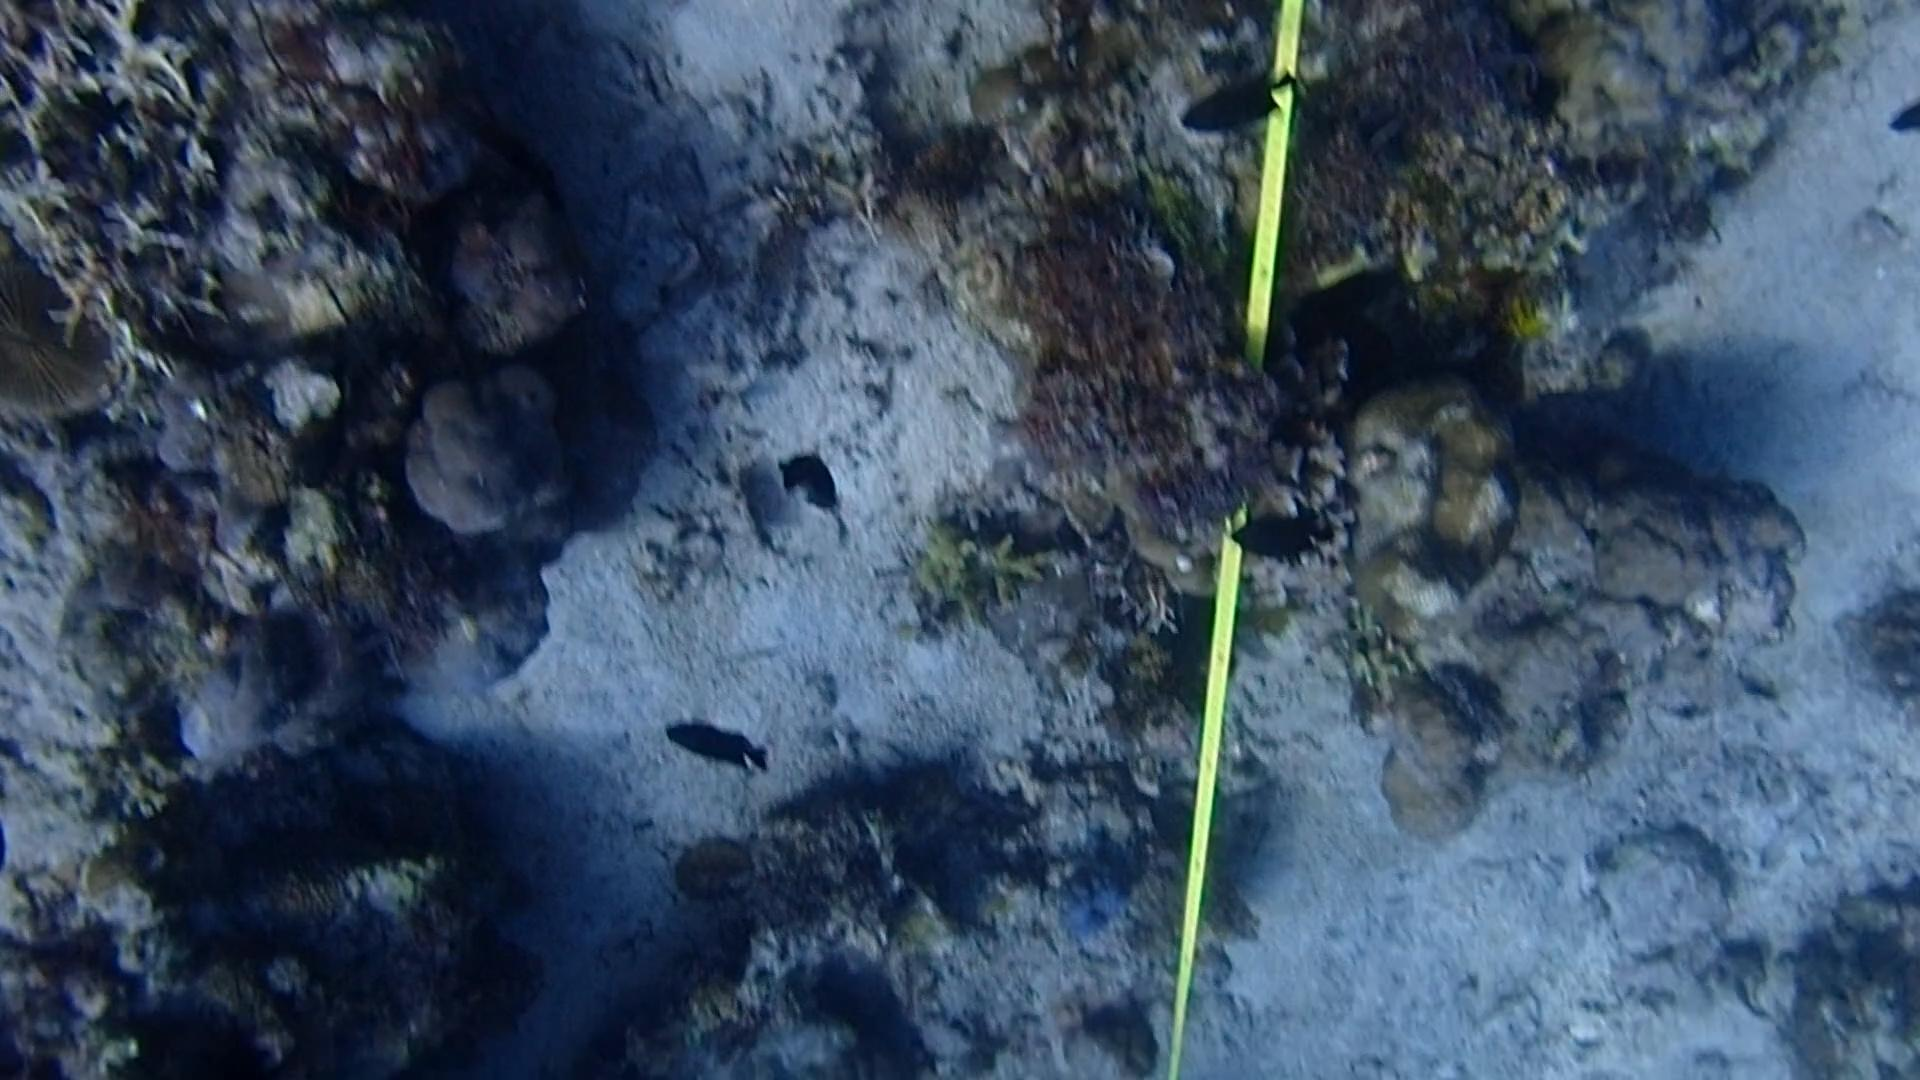Dark Fish: (1269, 256, 1399, 360), (1166, 49, 1294, 140), (1218, 484, 1337, 572), (290, 388, 375, 487), (505, 133, 583, 232), (666, 711, 769, 770), (778, 448, 844, 517)
Light Fish: (1724, 975, 1775, 1025)
